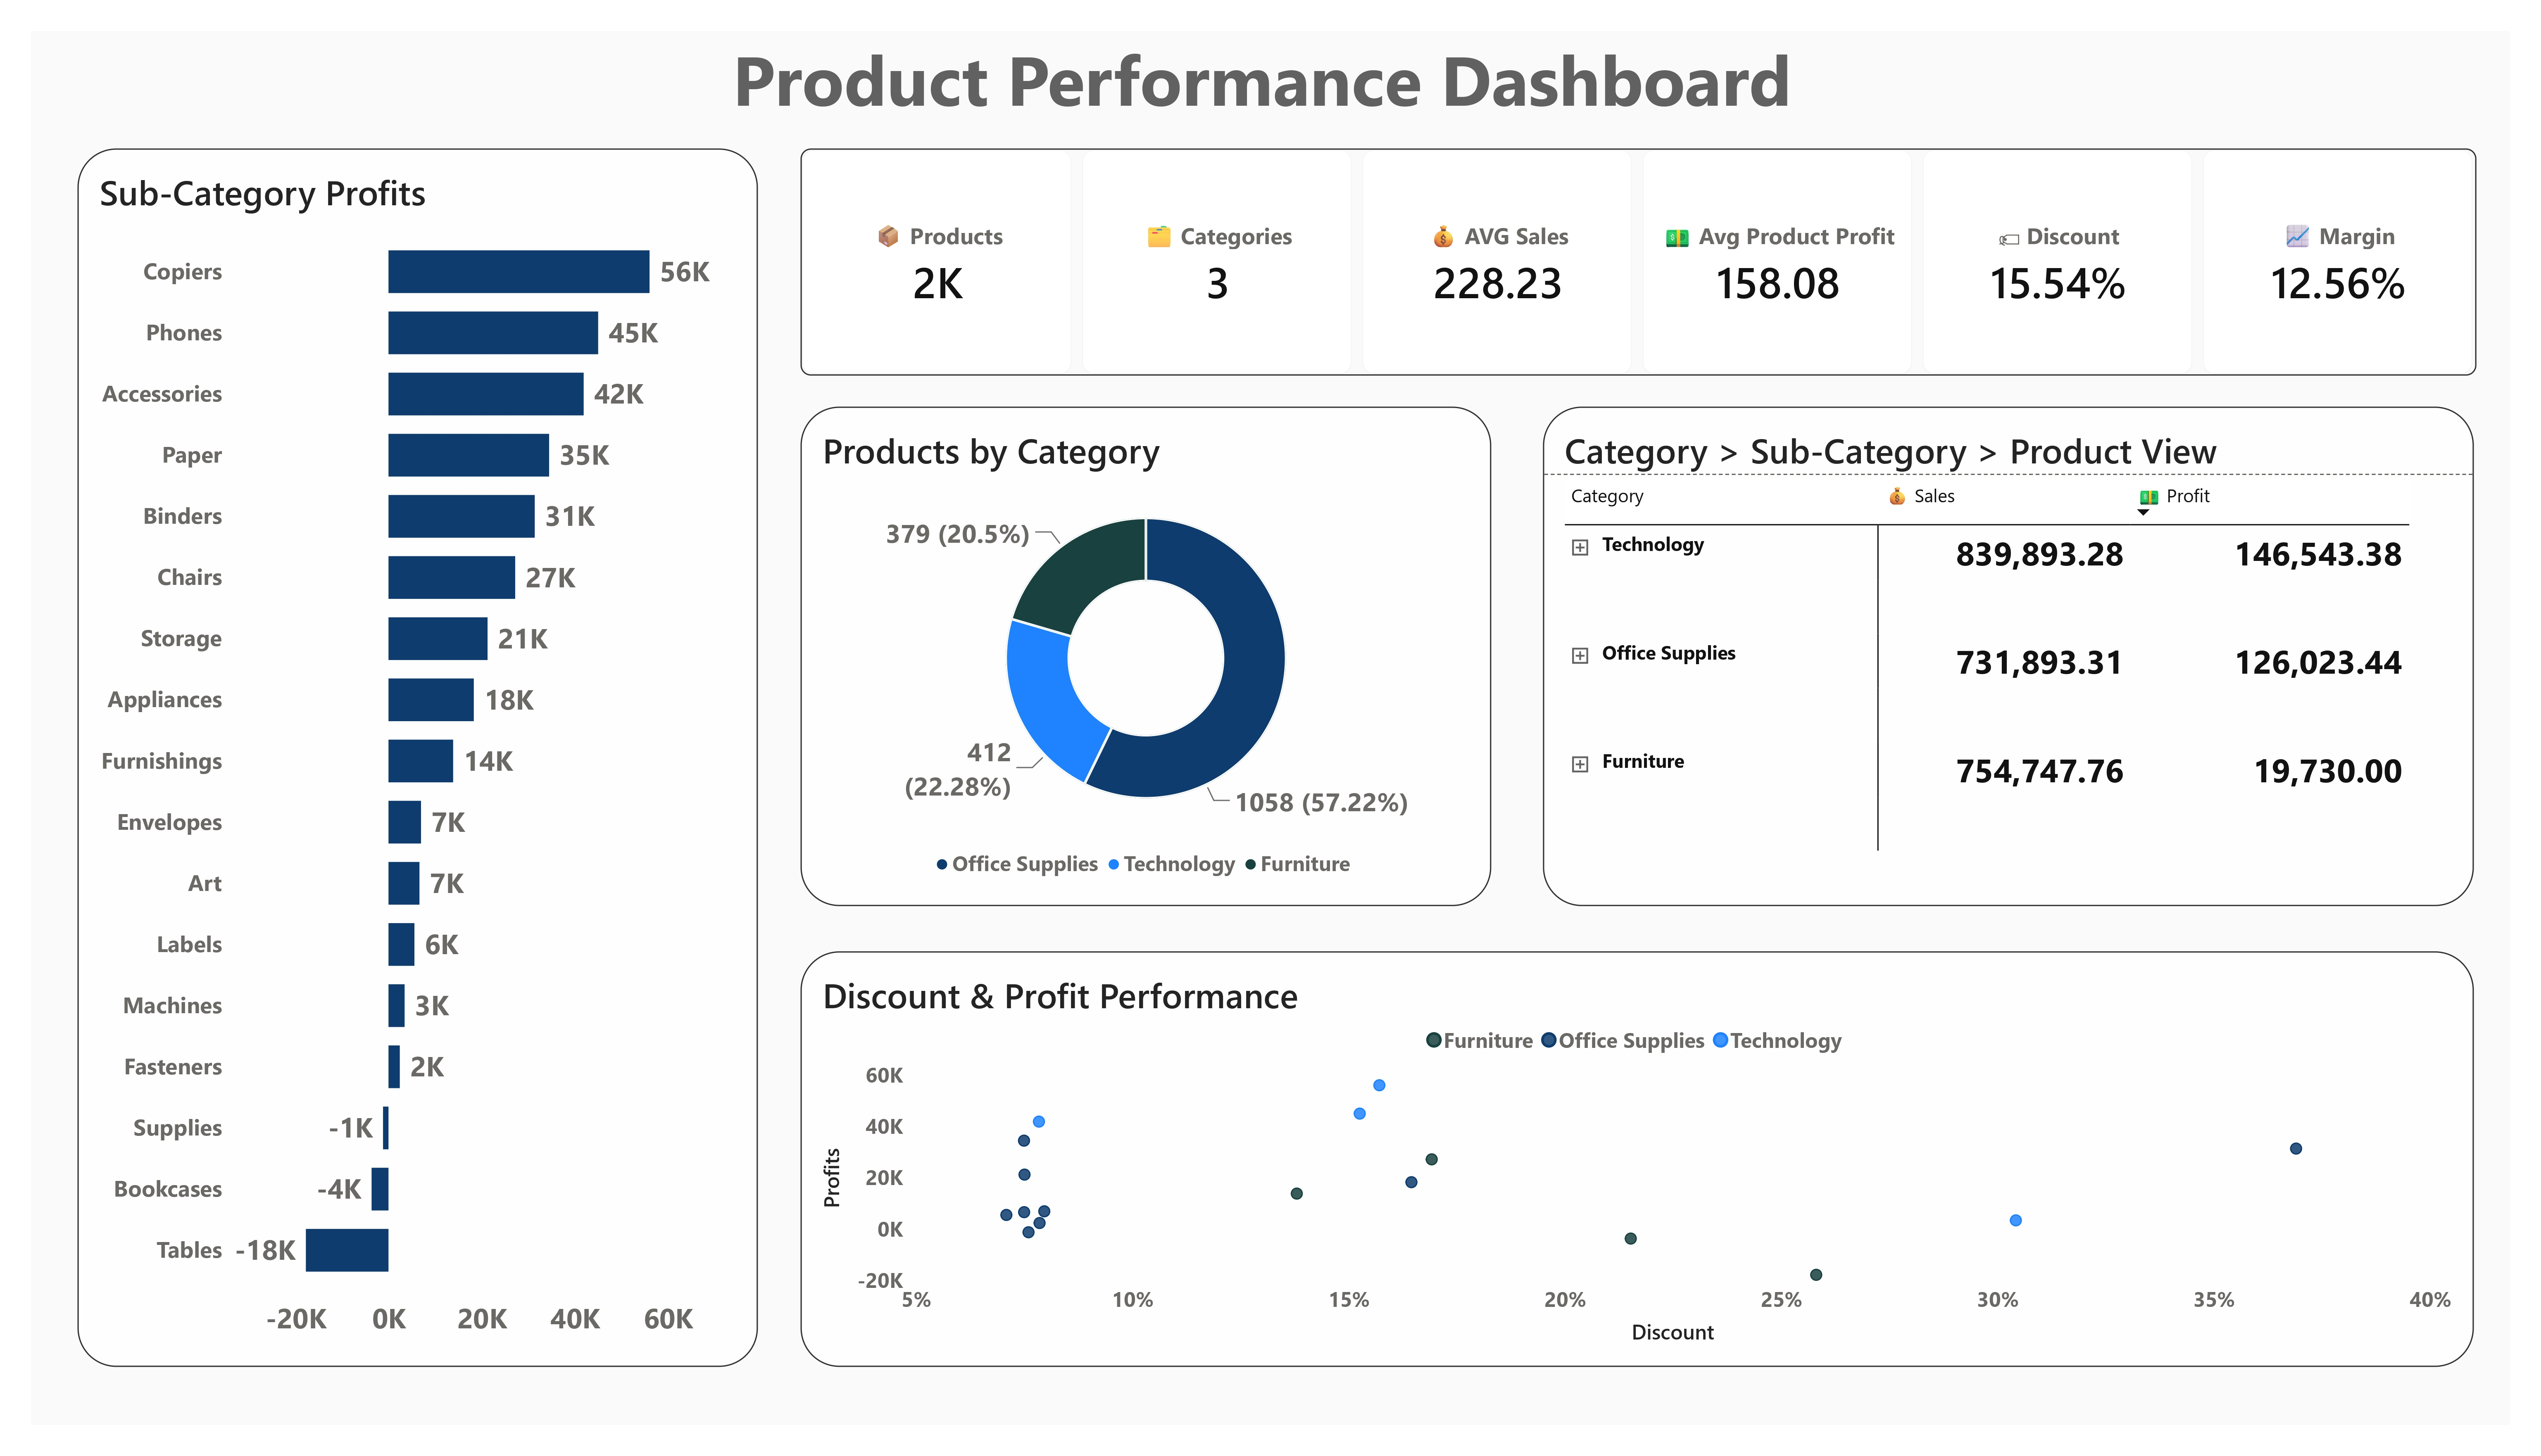

Layout of this report page (visuals, bound fields, positions):
{"tool":"powerbi","page":{"name":"Product Performance Dashboard","canvas":[1920,1080],"ordinal":1},"visuals":[{"type":"cardVisual","fields":{"Data":["Orders$.📦 Products","Orders$.🗂️ Categories","Orders$.Average Sales","Orders$.💵 Avg Product Profit","Orders$.🏷 Discount","Orders$.📈 Margin"]},"box":[596.5,90.7,1297.9,176.6],"z":0},{"type":"textbox","box":[0,0,1892,90.7],"z":1000},{"type":"donutChart","title":" Products by Category","fields":{"Category":["Orders$.Category"],"Y":["Orders$.📦 Products"]},"box":[596.5,291.1,534.4,386.5],"z":2000},{"type":"clusteredBarChart","title":"Sub-Category Profits","fields":{"Category":["Orders$.Sub-Category"],"Y":["Orders$.💵 Profit"]},"box":[35.8,90.7,527.3,944.8],"z":3000},{"type":"scatterChart","title":"Discount & Profit Performance","fields":{"Category":["Orders$.Sub-Category","Orders$.City"],"Series":["Orders$.Category"],"X":["Orders$.🏷 Discount"],"Y":["Orders$.💵 Profit"]},"box":[596.5,713.4,1295.6,322.1],"z":4000},{"type":"pivotTable","title":"Category > Sub-Category > Product View","fields":{"Rows":["Orders$.Category","Orders$.Sub-Category","Orders$.Product Name"],"Values":["Orders$.💰 Sales","Orders$.💵 Profit"]},"box":[1171.9,290.6,720.6,387.5],"z":5000}]}

Visuals, with their boxes on the page's 1920x1080 design canvas (x1, y1, x2, y2). These are canvas units, not pixel positions in the 2541x1456 screenshot, which may show the page scaled, cropped or inside an application window:
cardVisual - Orders$.📦 Products x Orders$.🗂️ Categories: (x1=596, y1=91, x2=1894, y2=267)
textbox: (x1=0, y1=0, x2=1892, y2=91)
" Products by Category" donutChart: (x1=596, y1=291, x2=1131, y2=678)
"Sub-Category Profits" clusteredBarChart: (x1=36, y1=91, x2=563, y2=1036)
"Discount & Profit Performance" scatterChart: (x1=596, y1=713, x2=1892, y2=1036)
"Category > Sub-Category > Product View" pivotTable: (x1=1172, y1=291, x2=1892, y2=678)
